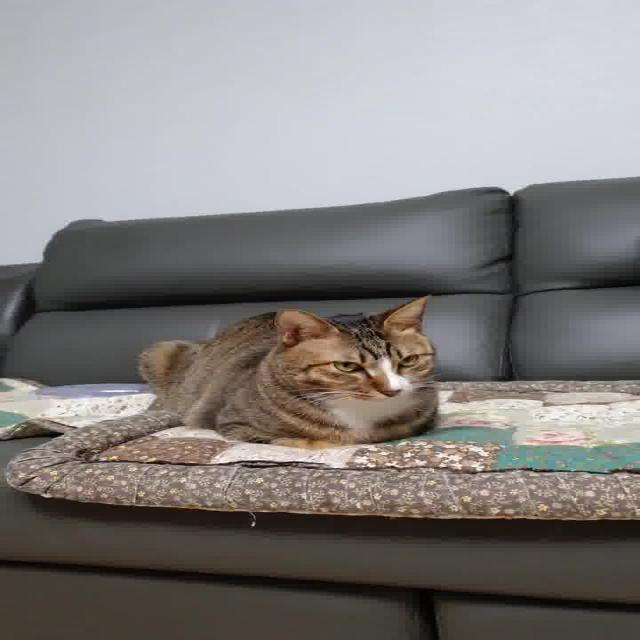cat: (107, 296, 499, 461)
